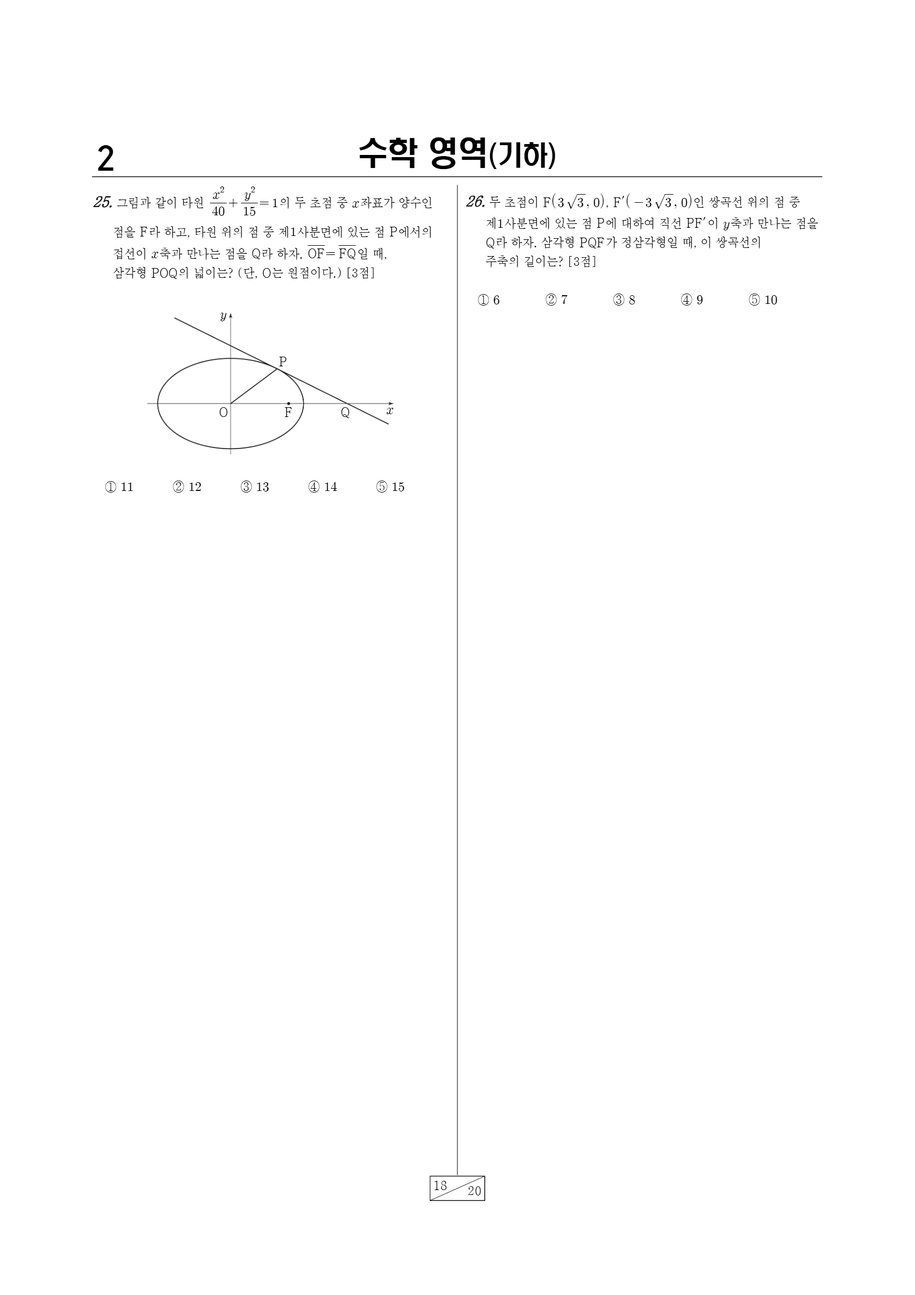opt_1: (475, 291, 492, 306), (104, 480, 117, 493)
opt_2: (544, 291, 557, 306), (172, 480, 184, 493)
opt_3: (240, 478, 253, 494), (612, 291, 625, 306)
opt_4: (680, 292, 693, 306), (308, 480, 319, 493)
opt_5: (375, 480, 388, 493), (748, 292, 760, 306)
